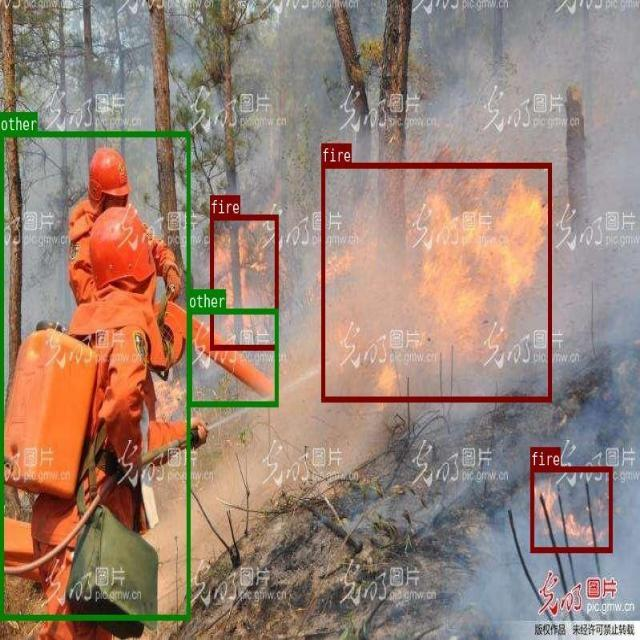fire: (321, 163, 550, 402), (210, 214, 278, 349), (530, 466, 612, 551)
